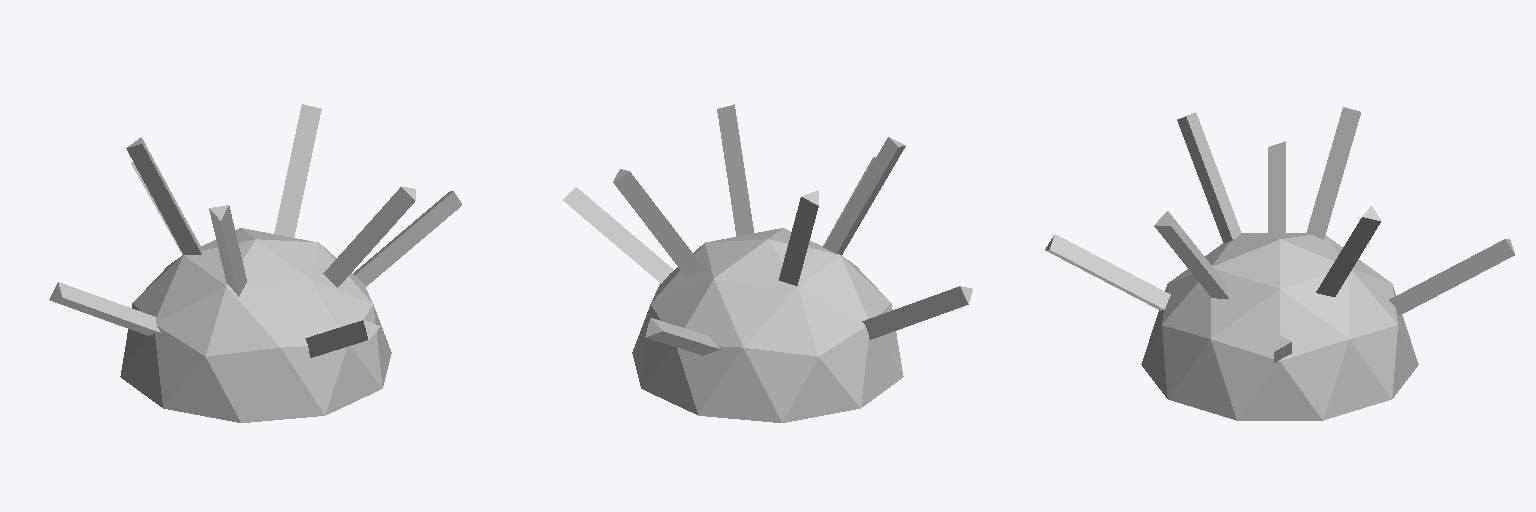
The model's file is mine.obj.
The picture shows the model from 3 angles: view 1: azimuth 30°, elevation 25°; view 2: azimuth 150°, elevation 25°; view 3: azimuth 270°, elevation 25°; orthographic projection.
Visible parts, largest first — view 1: Cylinder.001; view 2: Cylinder.001; view 3: Cylinder.001.
Part boxes in pixels (bbox=[...]): Cylinder.001: bbox=[49, 104, 461, 422]; Cylinder.001: bbox=[563, 104, 972, 422]; Cylinder.001: bbox=[1045, 107, 1514, 420].
Bounding box in the file's own units: 3.98 × 2.03 × 3.98.